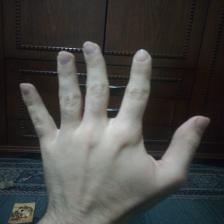five: (11, 34, 218, 215)
